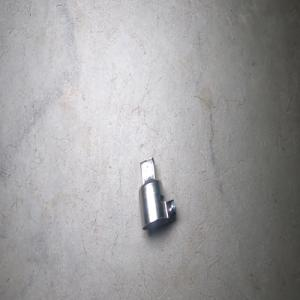MetalPart: (138, 156, 176, 230)
